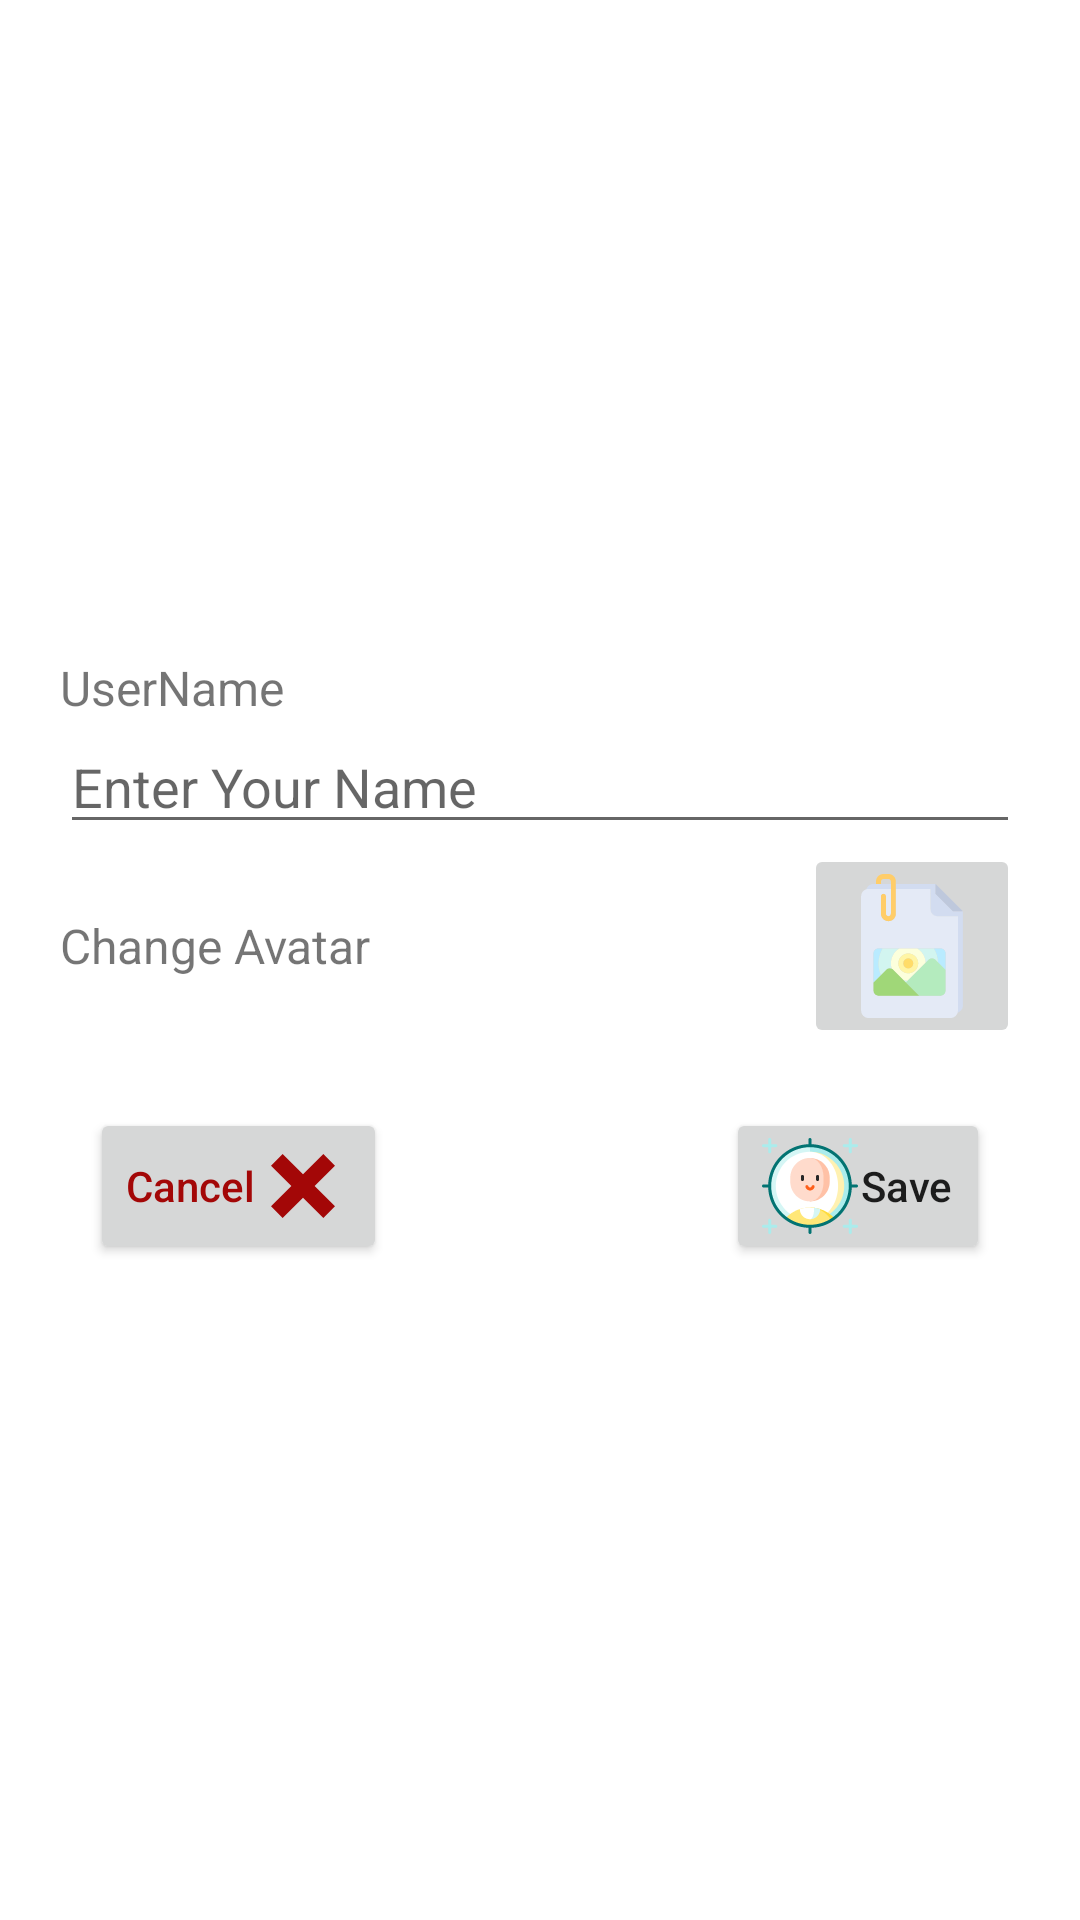

Icon bounding boxes for this 1080x1920 phone screenshot, format [x1,y1,x2,y2]:
files: [816,862,1008,1030]
